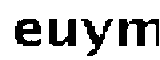e: (12, 16, 42, 50)
m: (113, 14, 160, 50)
u: (45, 14, 79, 51)
y: (79, 15, 114, 59)
